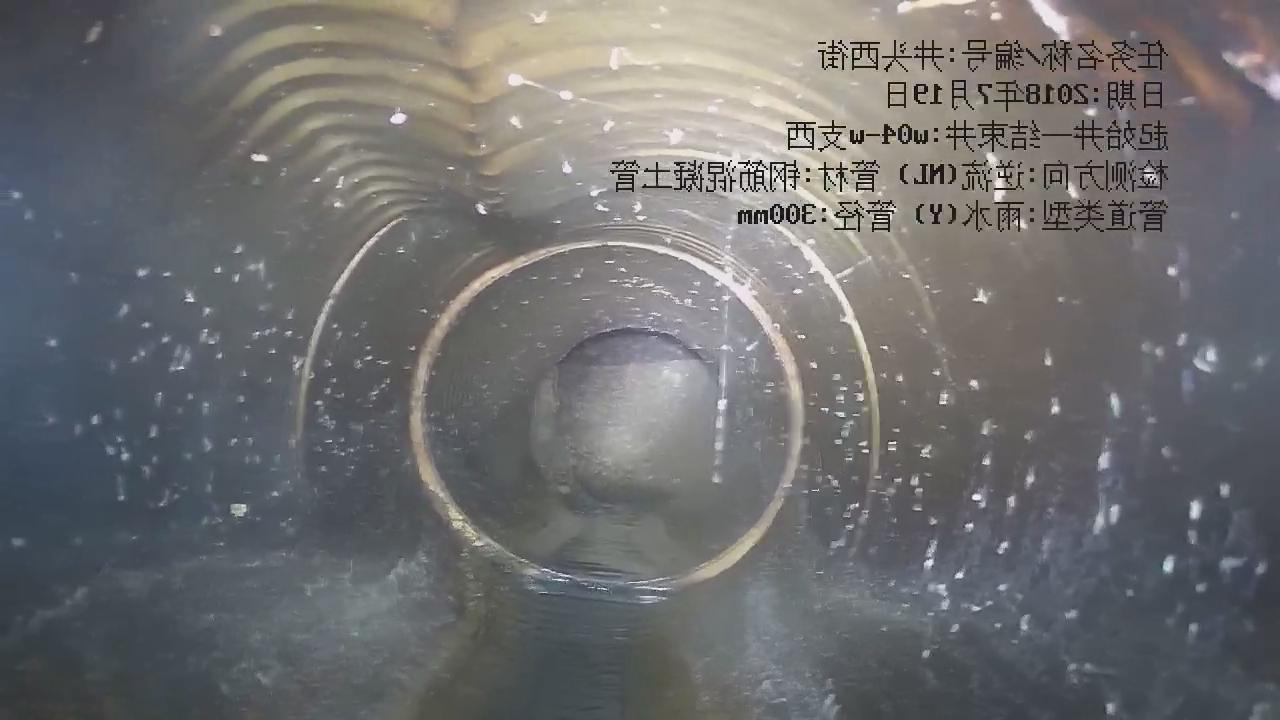BX: (278, 22, 643, 257)
